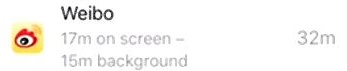name: (55, 2, 121, 25)
time: (58, 29, 96, 48), (60, 52, 95, 71)
